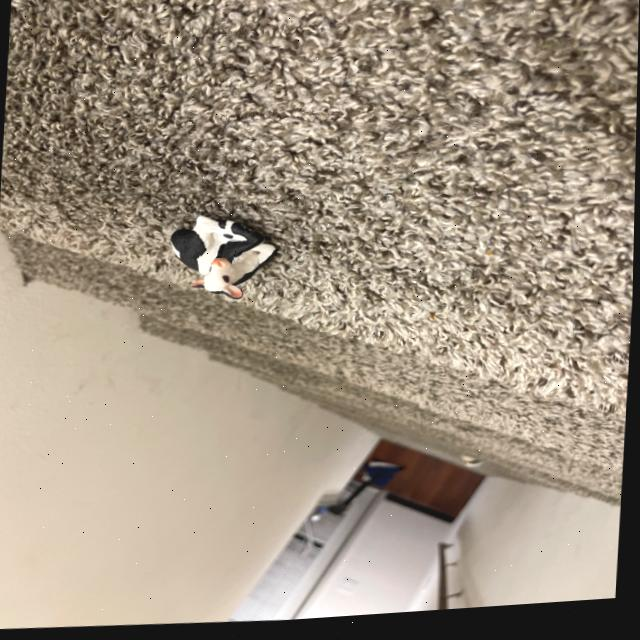cow: (156, 196, 279, 316)
